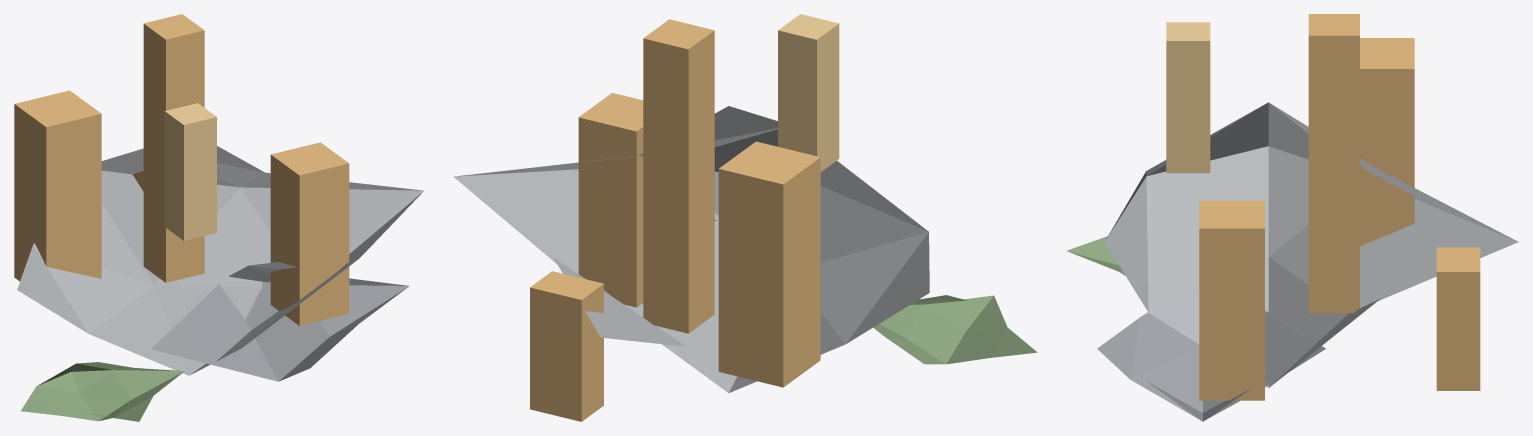
The model's file is ore_node.glb.
3 views of the same model, side by side, from view 1: azimuth 30°, elevation 25°; view 2: azimuth 150°, elevation 25°; view 3: azimuth 270°, elevation 25° (orthographic). The views are drawn at different scales.
Visible parts, largest first — view 1: lod0; view 2: lod0; view 3: lod0.
Part boxes in pixels (box(x1,y1,x2,y2)): lod0: box(14, 14, 423, 421); lod0: box(453, 14, 1037, 421); lod0: box(1066, 14, 1518, 421).
Size of what is drawn, in the model's own units: 1.63 by 1.12 by 1.24.
